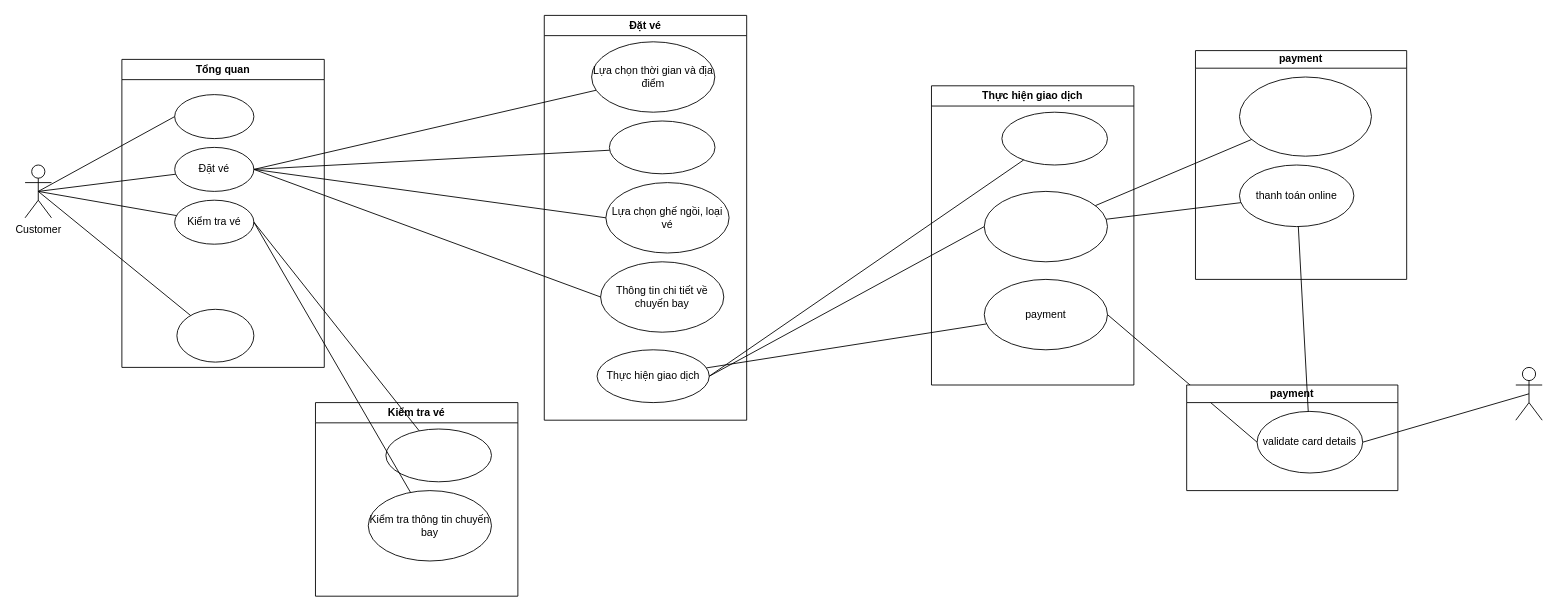
Image size: 1558x612. Some labels were removed from this diagram. Each missing label, with the centre of its shape:
Bank: the point at 1528,393
Hủy, đổi vé: the point at 215,335
Kiểm tra thông tin cá nhân: the point at 438,455
Lựa chọn hình thức thanh toán: the point at 1045,226
Nhập thông tin thanh toán: the point at 1054,138
Thêm thông tin cá nhân: the point at 662,147
tiền mặt (khách hàng ra quầy máy bay để thanh toán trước giờ bay 2 tiếng): the point at 1305,116
Tìm kiếm: the point at 214,116
